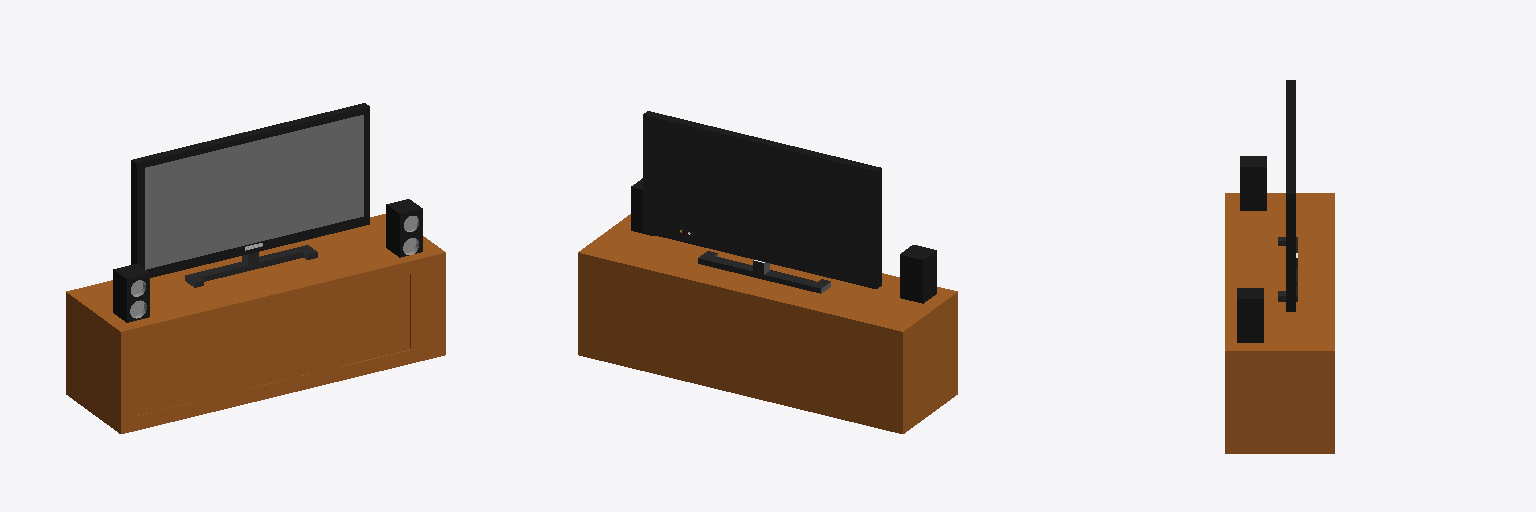
3 views of the same model, side by side, from view 1: azimuth 30°, elevation 25°; view 2: azimuth 150°, elevation 25°; view 3: azimuth 270°, elevation 25° (orthographic).
Parts seen in each view (by area): view 1: Mesh1 Component_3_1 Model; view 2: Mesh1 Component_3_1 Model; view 3: Mesh1 Component_3_1 Model.
Part boxes in pixels (left/top/right/bottom): Mesh1 Component_3_1 Model: left=66, top=103, right=445, bottom=433; Mesh1 Component_3_1 Model: left=578, top=111, right=957, bottom=433; Mesh1 Component_3_1 Model: left=1225, top=80, right=1334, bottom=453.
Size of the model in its own units: 1.78 by 1.24 by 0.5223.
11 materials, 2 textured.